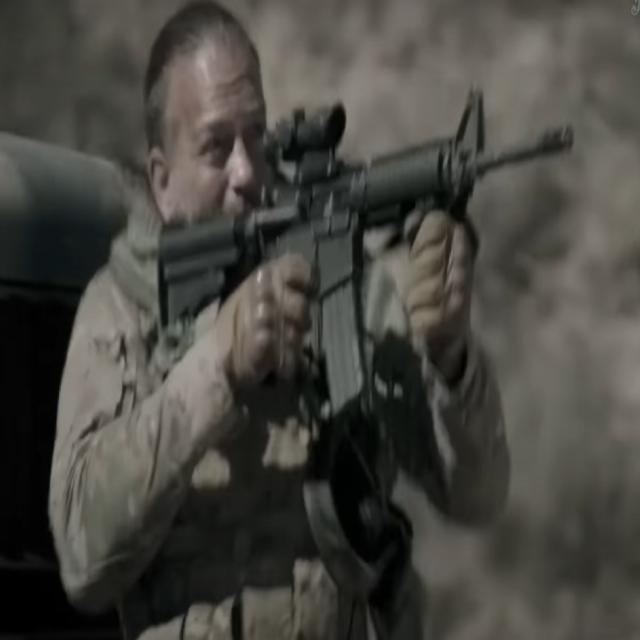m16: (147, 66, 622, 518)
